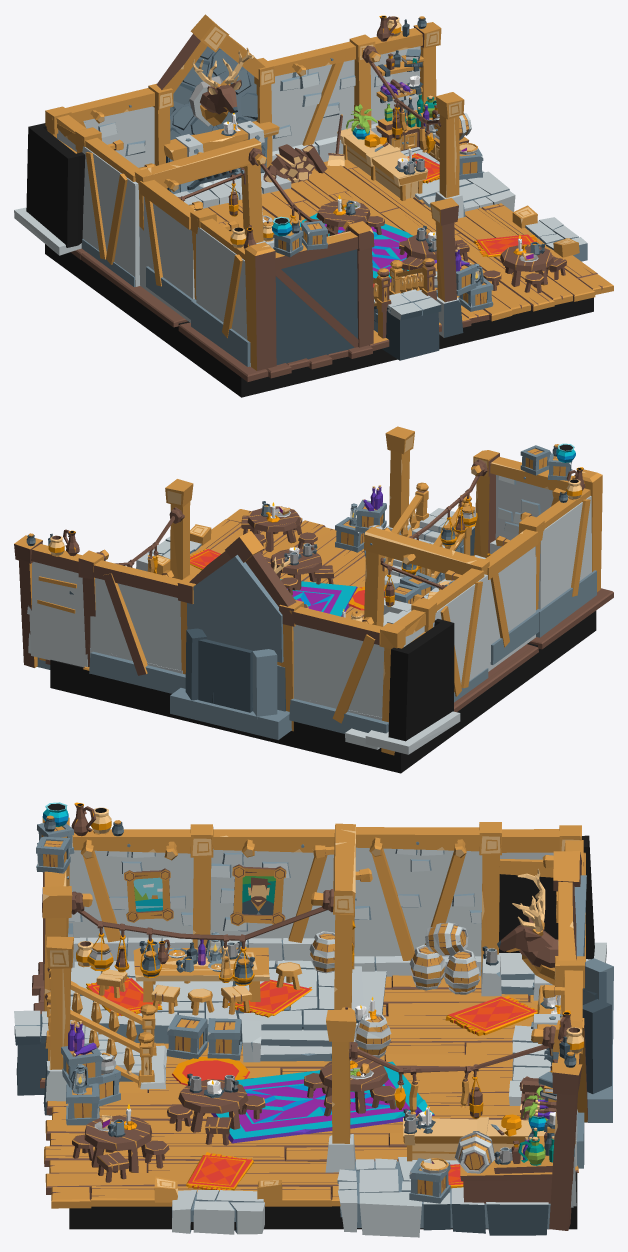
3 renders of one model, top to bottom at view 1: azimuth 30°, elevation 25°; view 2: azimuth 150°, elevation 25°; view 3: azimuth 270°, elevation 25°, orthographic. The views are drawn at different scales.
Parts seen in each view (by area): view 1: group1563204207, group1722098415, group1718261112, group1806329641, group1149412887, group822585693, group843179588, group1570457038, group936772768, group1760430014, group1610604143, group1480383765 (+51 smaller); view 2: group1563204207, group1592880815, group193084205, group1149412887, group1806329641, group936772768, group425200879, group822585693, group1408592774, group1610604143, group688152922, group1570457038 (+48 smaller); view 3: group843179588, group1806329641, group1570457038, group822585693, group1718261112, group1377569298, group188180022, group858117732, group1563204207, group1480383765, group1149412887, group502351941 (+93 smaller).
Boxes of the visible parts, box(x1,y1,x2,y2) form: group1563204207: box(45, 244, 593, 397); group1722098415: box(275, 249, 357, 364); group1718261112: box(308, 159, 554, 321); group1806329641: box(191, 227, 250, 366); group1149412887: box(26, 123, 85, 247); group822585693: box(139, 196, 196, 322); group843179588: box(413, 197, 613, 304); group1570457038: box(82, 146, 139, 286); group936772768: box(271, 59, 354, 151); group1760430014: box(244, 242, 276, 370); group1610604143: box(134, 138, 266, 191); group1480383765: box(430, 198, 463, 337); group1563204207: box(50, 611, 596, 773); group1592880815: box(289, 624, 388, 733); group193084205: box(187, 555, 283, 662); group1149412887: box(388, 619, 454, 741); group1806329641: box(536, 496, 596, 637); group936772768: box(90, 578, 181, 670); group425200879: box(29, 561, 87, 667); group822585693: box(487, 546, 540, 671); group1408592774: box(198, 639, 252, 712); group1610604143: box(364, 526, 489, 574); group688152922: box(170, 688, 291, 739); group1570457038: box(433, 574, 487, 684); group843179588: box(45, 1160, 397, 1208); group1806329641: box(68, 850, 193, 961); group1570457038: box(354, 847, 482, 957); group822585693: box(210, 849, 335, 964); group1718261112: box(44, 1120, 406, 1166); group1377569298: box(211, 1061, 434, 1143); group188180022: box(40, 1042, 512, 1088); group858117732: box(46, 1080, 526, 1120); group1563204207: box(69, 1006, 577, 1229); group1480383765: box(43, 936, 73, 1115); group1149412887: box(499, 835, 594, 959); group502351941: box(356, 827, 479, 858).
Size of the model in its own units: 9.66 by 4.47 by 9.44.
